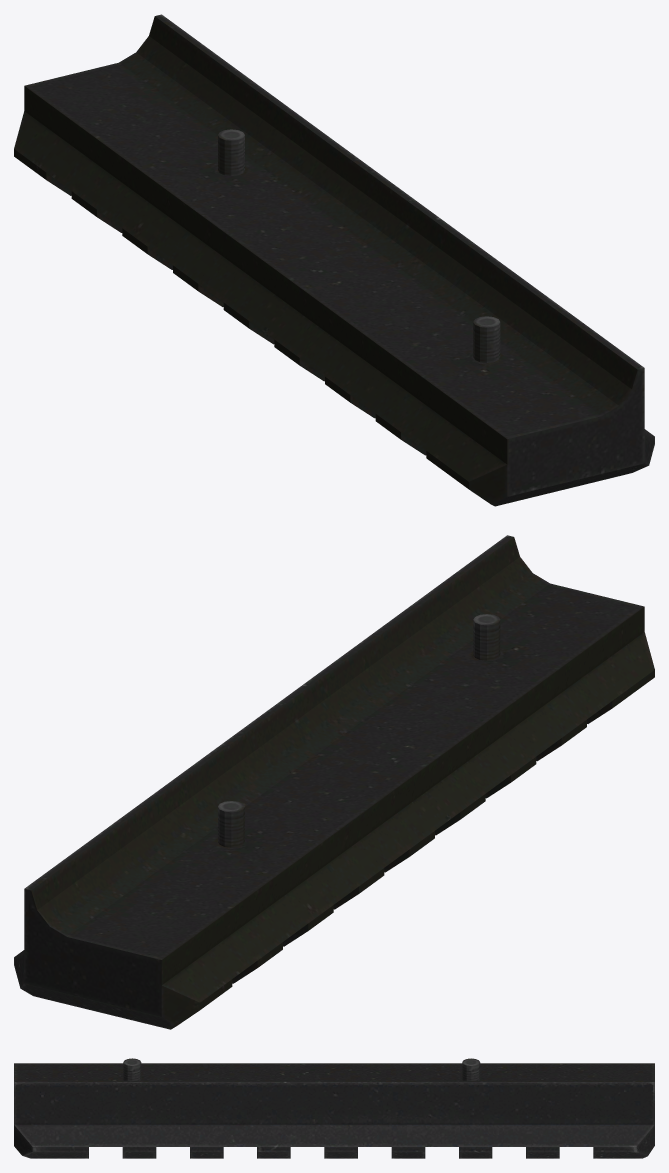
3 views of the same model, one above another, from view 1: azimuth 30°, elevation 25°; view 2: azimuth 150°, elevation 25°; view 3: azimuth 270°, elevation 25° (orthographic). The views are drawn at different scales.
Parts seen in each view (by area): view 1: TW_5de8fc0b205ddc616a6bc51b_PZ_Import; view 2: TW_5de8fc0b205ddc616a6bc51b_PZ_Import; view 3: TW_5de8fc0b205ddc616a6bc51b_PZ_Import.
Part boxes in pixels (x1=…): TW_5de8fc0b205ddc616a6bc51b_PZ_Import: x1=14, y1=14, x2=654, y2=506; TW_5de8fc0b205ddc616a6bc51b_PZ_Import: x1=14, y1=535, x2=654, y2=1029; TW_5de8fc0b205ddc616a6bc51b_PZ_Import: x1=14, y1=1058, x2=654, y2=1158.
Bounding box in the file's own units: 0.0123 × 0.0551 × 0.00717.
1 material, 1 textured.
